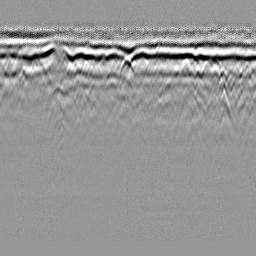cavity: (120, 53, 135, 74)
